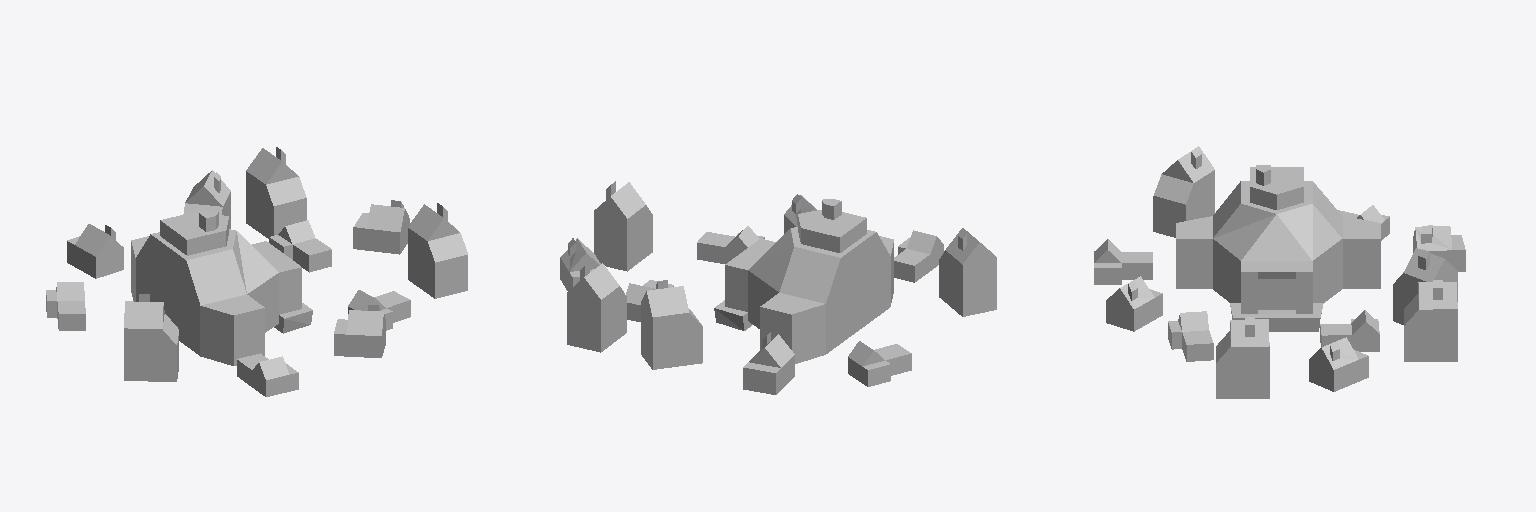
Rendered from city.obj.
The picture shows the model from 3 angles: view 1: azimuth 30°, elevation 25°; view 2: azimuth 150°, elevation 25°; view 3: azimuth 270°, elevation 25°; orthographic projection.
Parts seen in each view (by area): view 1: Cube.004; view 2: Cube.004; view 3: Cube.004.
Part boxes in pixels (x1,y1,x2,y2): Cube.004: (46, 147, 467, 396); Cube.004: (560, 181, 996, 394); Cube.004: (1094, 146, 1465, 398).
Size of the model in its own units: 2 by 0.6501 by 1.78.